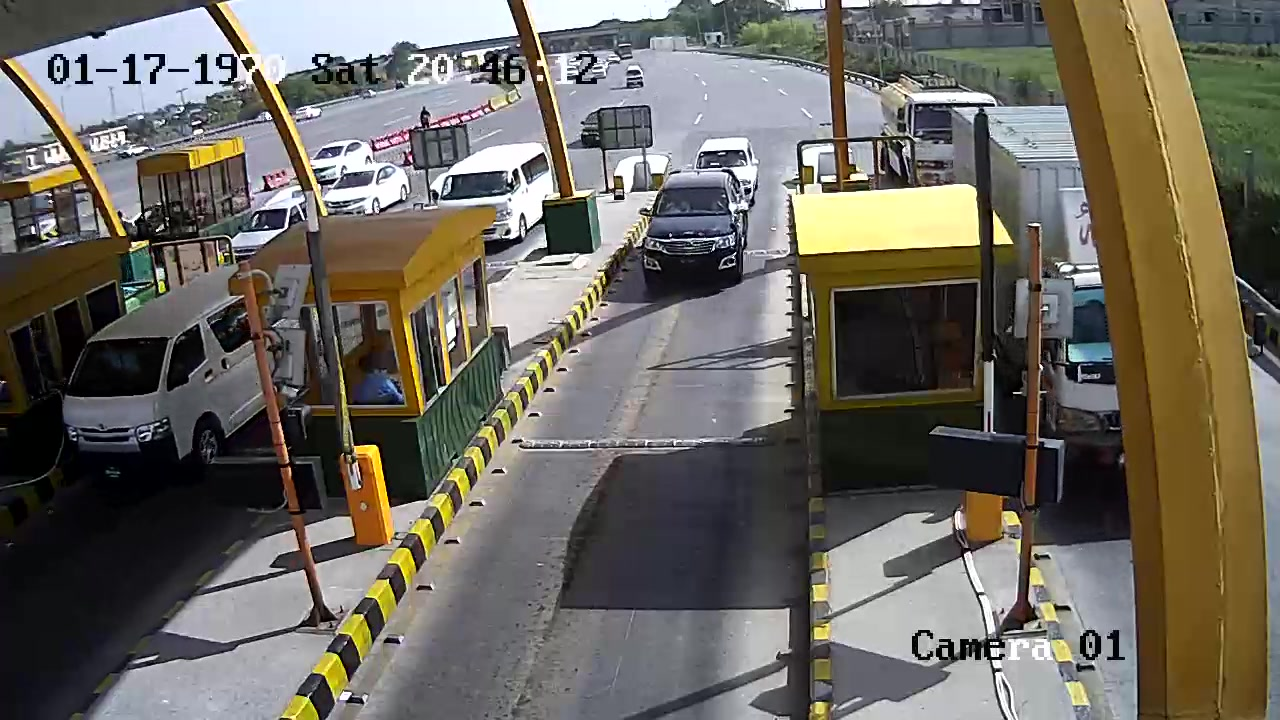F1: (636, 159, 753, 304)
